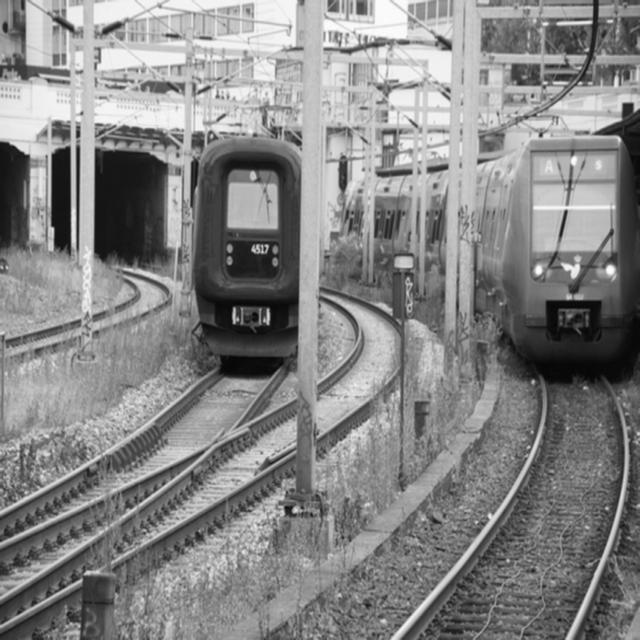pole: (287, 1, 327, 500), (72, 0, 103, 360), (442, 0, 462, 373)
